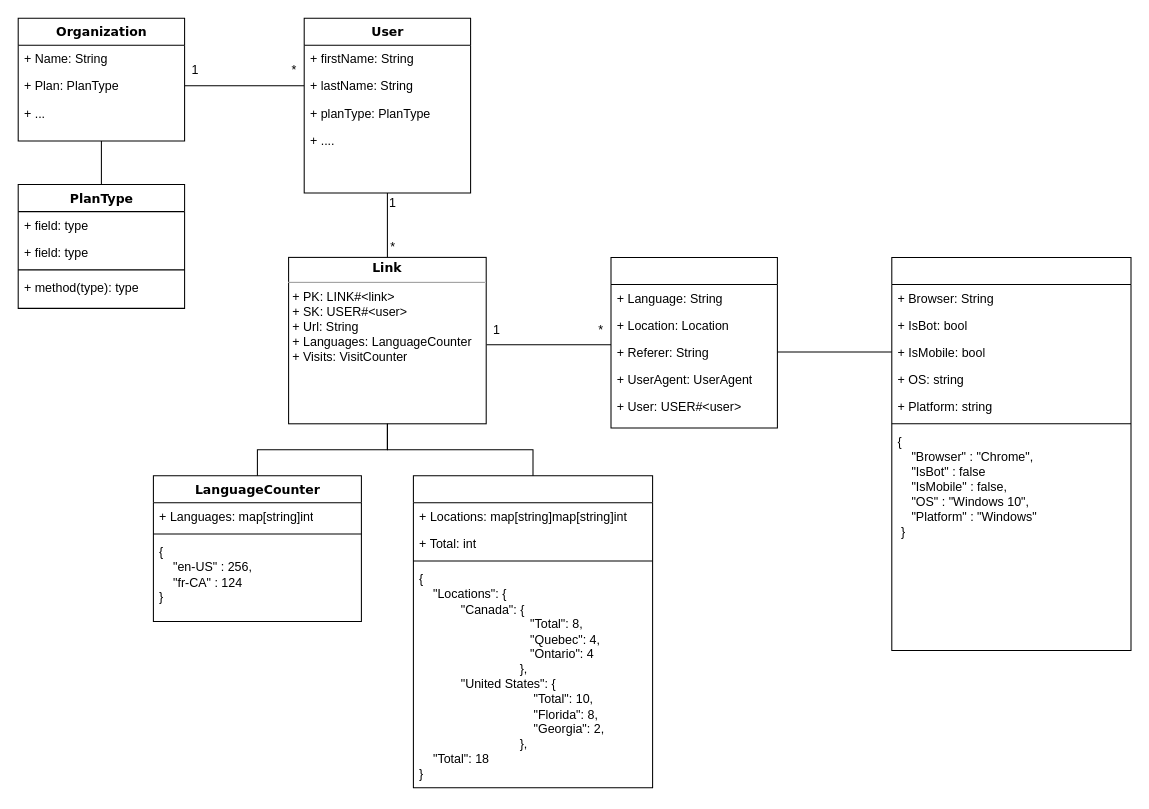
The diagram is 1149 pixels wide and 809 high, and some of its shapes have lost their labels. The shapes that lost their labels are listed below. From the top down, each one's box as (x1, y1, x2, y2) in pixels, then its label:
(610, 256, 777, 428): Visit
(891, 256, 1131, 651): UserAgent
(412, 475, 653, 788): VisitCounter
